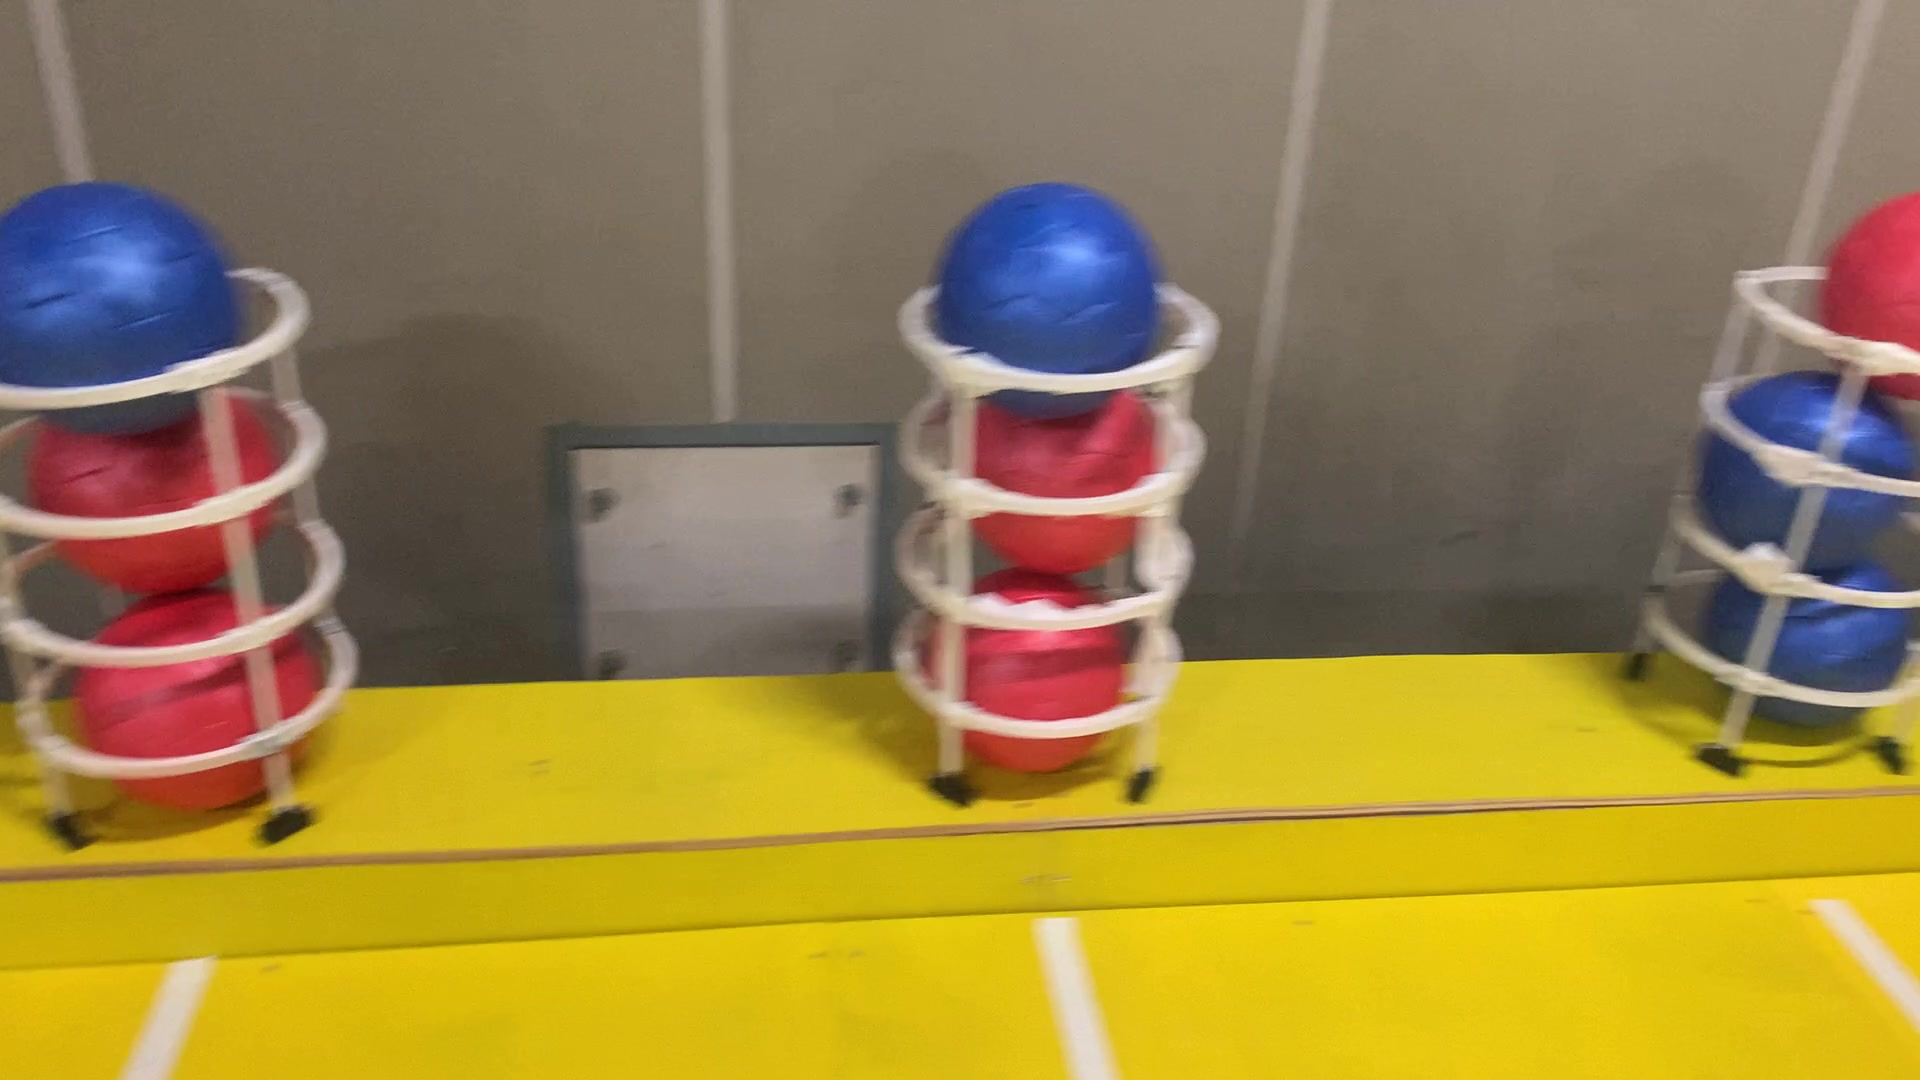blue: (928, 173, 1180, 417), (0, 186, 235, 427), (1691, 357, 1917, 593), (1704, 526, 1908, 741)
red: (25, 392, 289, 599), (73, 596, 323, 810), (957, 361, 1171, 571), (928, 567, 1139, 775), (1826, 169, 1920, 421)
